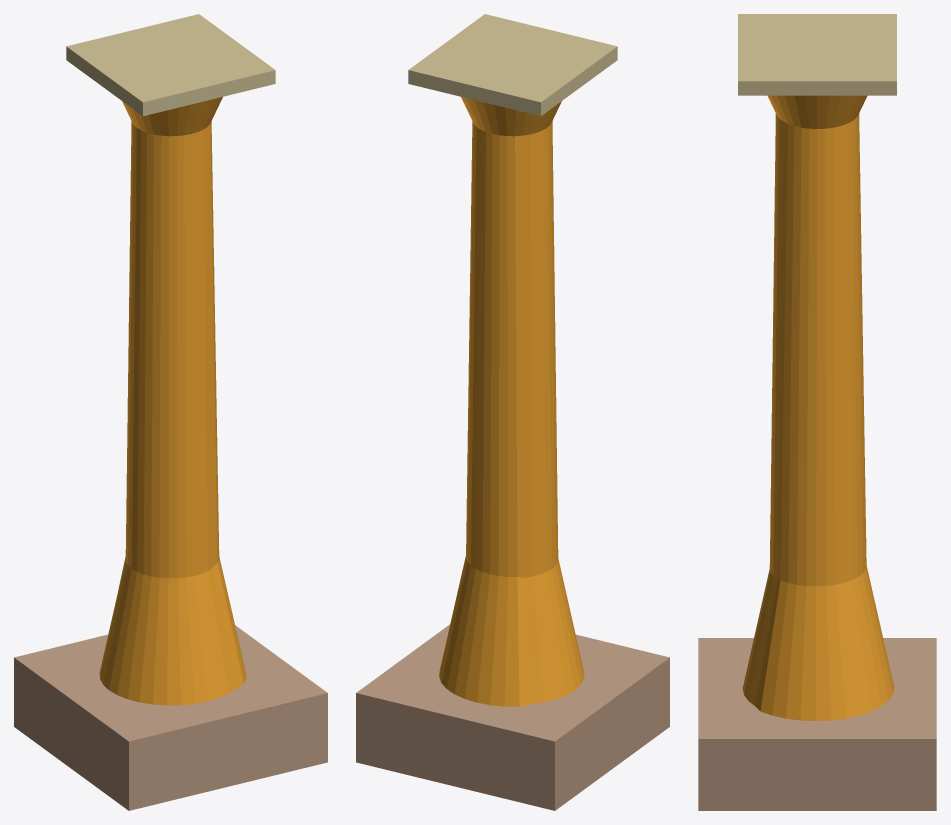
File: columna4n.fbx
3 renders of one model, left to right at view 1: azimuth 30°, elevation 25°; view 2: azimuth 150°, elevation 25°; view 3: azimuth 270°, elevation 25°, orthographic. The views are drawn at different scales.
Visible parts, largest first — view 1: Cylinder.002; view 2: Cylinder.002; view 3: Cylinder.002.
Boxes of the visible parts, x1=… form: Cylinder.002: x1=14, y1=14, x2=327, y2=810; Cylinder.002: x1=356, y1=14, x2=669, y2=810; Cylinder.002: x1=698, y1=14, x2=936, y2=810.
Bounding box in the file's own units: 300 × 989 × 300.
3 materials, 3 textured.
